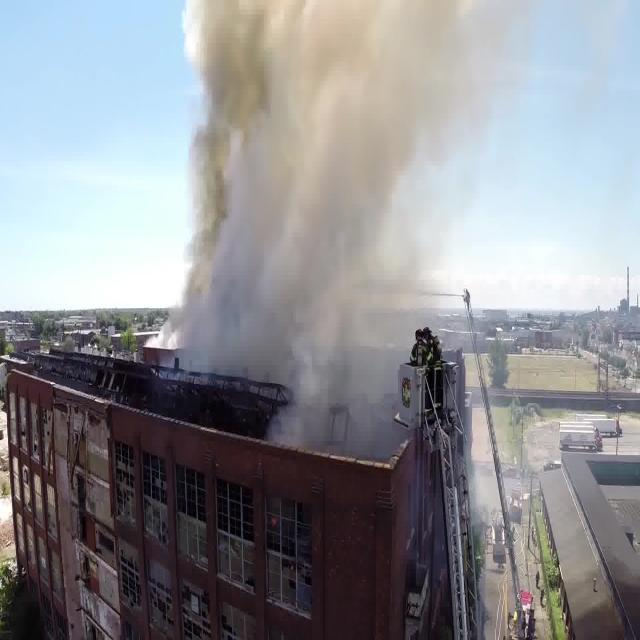smoke: (193, 7, 385, 366)
